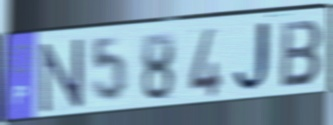4: (187, 24, 225, 100)
5: (89, 33, 130, 109)
8: (140, 31, 176, 104)
B: (278, 18, 326, 91)
J: (232, 18, 277, 96)
N: (39, 36, 85, 117)
